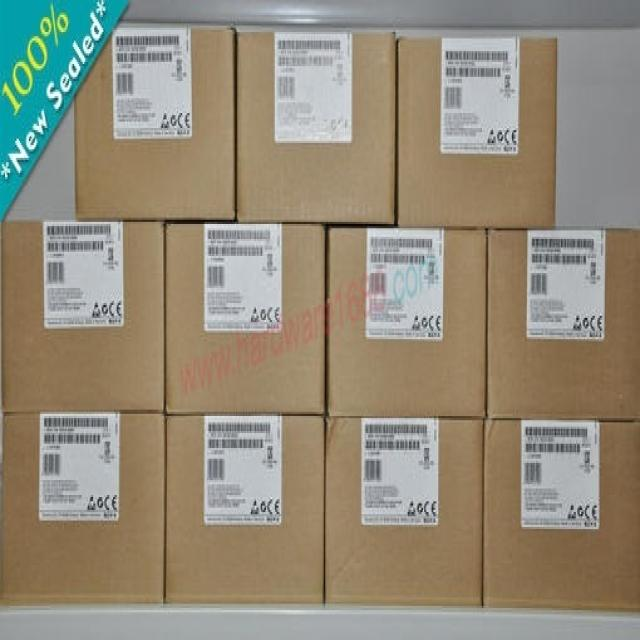box: (235, 25, 397, 226), (75, 19, 236, 220), (1, 220, 166, 413), (165, 222, 327, 416), (397, 35, 557, 227), (326, 228, 488, 417), (325, 415, 485, 606), (165, 413, 325, 602), (485, 418, 639, 610), (485, 229, 638, 420)
